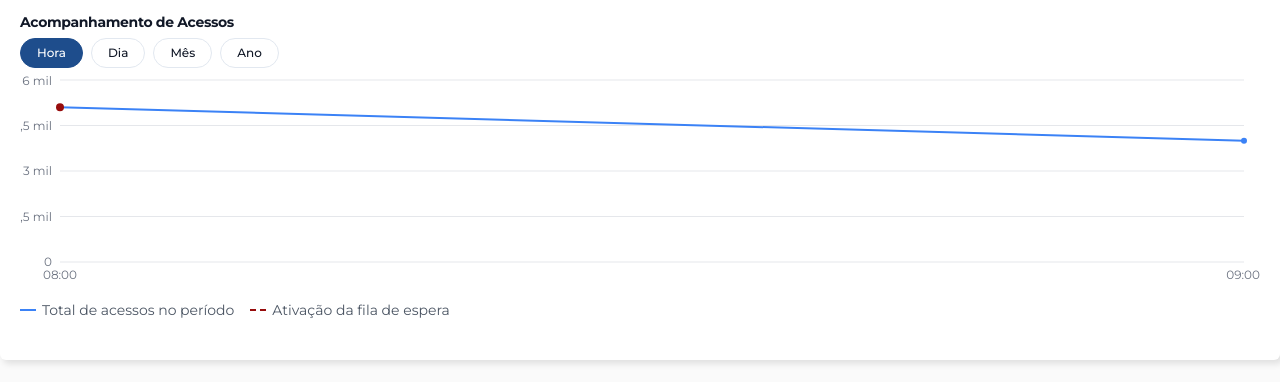
Scenario: <AcompanhamentoAcessosCard /> › troca a granularidade pelo alternador
Step 1. Click the radio button labelled "Mês" → (183, 53), box [153,38,212,68]
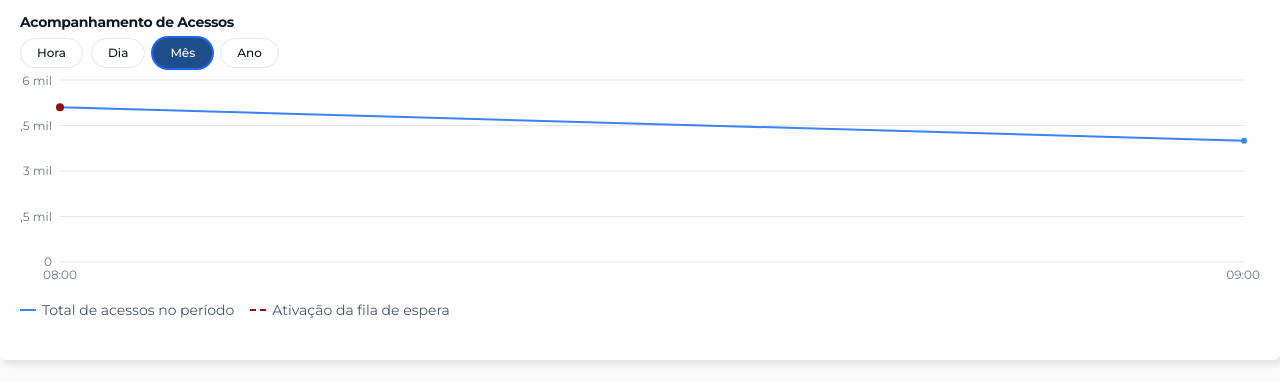
Result: the radio button labelled "Mês" is checked at [153,38,212,68]
